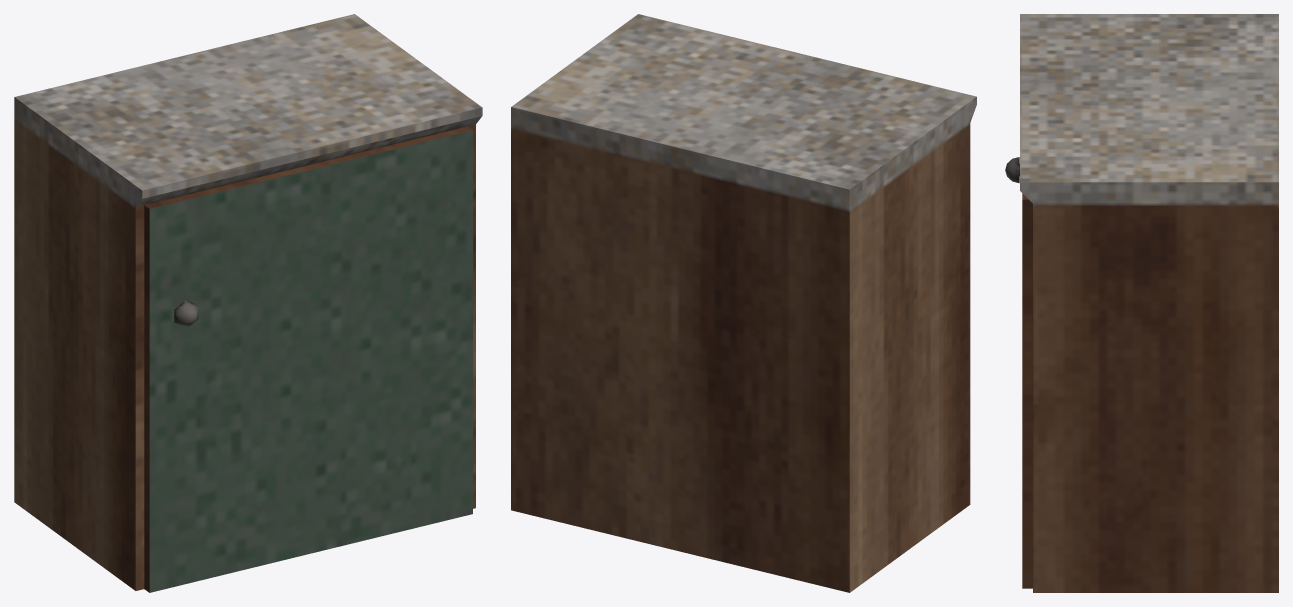
File: table_kitchen_02.fbx
3 renders of one model, left to right at view 1: azimuth 30°, elevation 25°; view 2: azimuth 150°, elevation 25°; view 3: azimuth 270°, elevation 25°, orthographic.
Visible parts, largest first — view 1: table_kitchen_02_door, table_kitchen_02; view 2: table_kitchen_02; view 3: table_kitchen_02, table_kitchen_02_door.
Boxes of the visible parts, box(x1,y1,x2,y2) form: table_kitchen_02_door: box(144, 126, 472, 592); table_kitchen_02: box(14, 14, 482, 590); table_kitchen_02: box(511, 14, 976, 592); table_kitchen_02: box(1020, 14, 1278, 592); table_kitchen_02_door: box(1005, 157, 1032, 588).
Size of the model in its own units: 87.86 by 100 by 60.41.
1 material, 1 textured.
